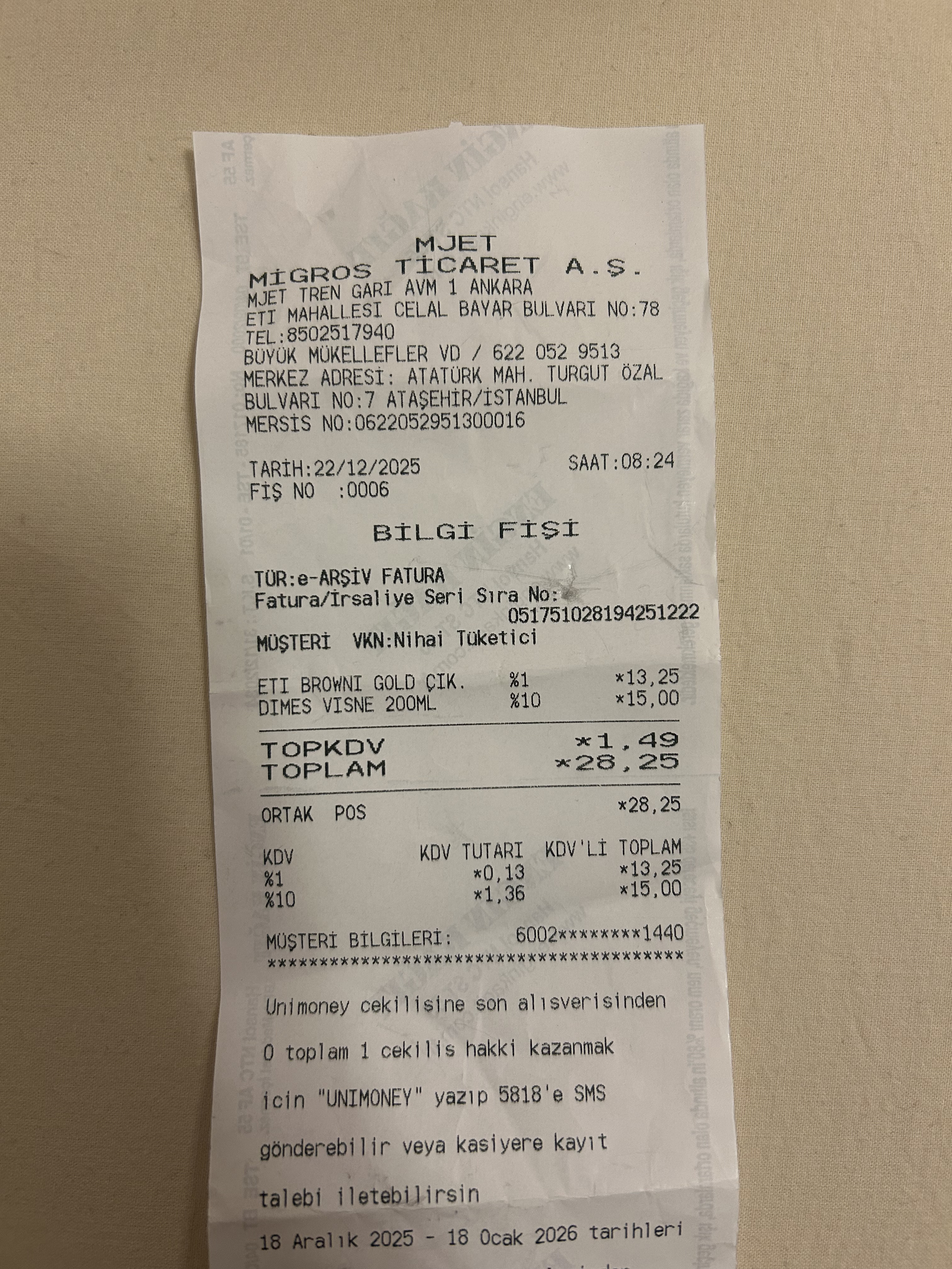date: (312, 451, 427, 483)
price: (566, 751, 689, 779)
workplace: (237, 229, 668, 327)
